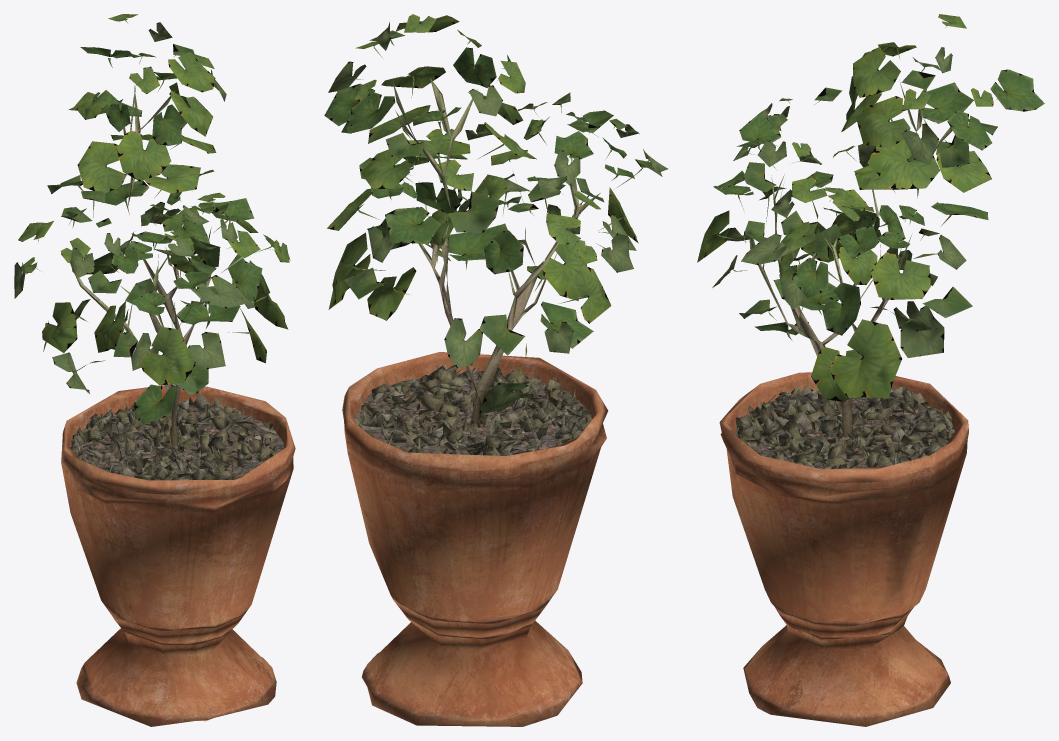
File: plantBush_hq.glb
The picture shows the model from 3 angles, left to right: view 1: azimuth 30°, elevation 25°; view 2: azimuth 150°, elevation 25°; view 3: azimuth 270°, elevation 25°; orthographic projection. The views are drawn at different scales.
Visible parts, largest first — view 1: potted_plant_01_stem, potted_plant_01_leaves; view 2: potted_plant_01_stem, potted_plant_01_leaves; view 3: potted_plant_01_stem, potted_plant_01_leaves.
Part boxes in pixels (<box>): potted_plant_01_stem: <box>61,85,295,726</box>; potted_plant_01_leaves: <box>14,14,290,424</box>; potted_plant_01_stem: <box>342,78,608,726</box>; potted_plant_01_leaves: <box>324,14,667,414</box>; potted_plant_01_stem: <box>719,81,968,726</box>; potted_plant_01_leaves: <box>697,14,1044,401</box>.
Size of the model in its own units: 0.5858 by 1.33 by 0.6336.
2 materials, 2 textured.
